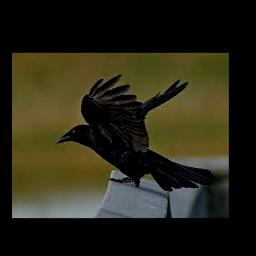Crow: (56, 75, 212, 191)
